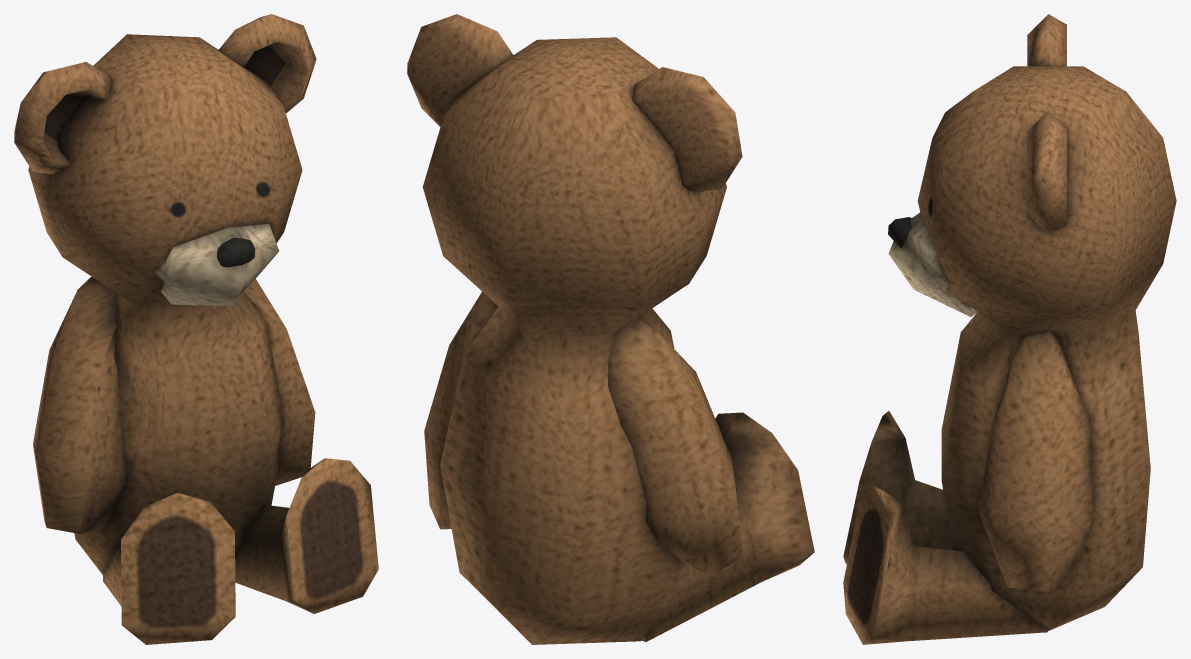
Rendered from TeddyBear.fbx.
The picture shows the model from 3 angles, left to right: view 1: azimuth 30°, elevation 25°; view 2: azimuth 150°, elevation 25°; view 3: azimuth 270°, elevation 25°; orthographic projection. The views are drawn at different scales.
Parts seen in each view (by area): view 1: TeddyBear; view 2: TeddyBear; view 3: TeddyBear.
Boxes of the visible parts, left/top/right/bottom form: TeddyBear: left=14, top=14, right=378, bottom=644; TeddyBear: left=407, top=14, right=814, bottom=644; TeddyBear: left=843, top=14, right=1176, bottom=644.
Bounding box in the file's own units: 55.34 × 92.33 × 52.08.
